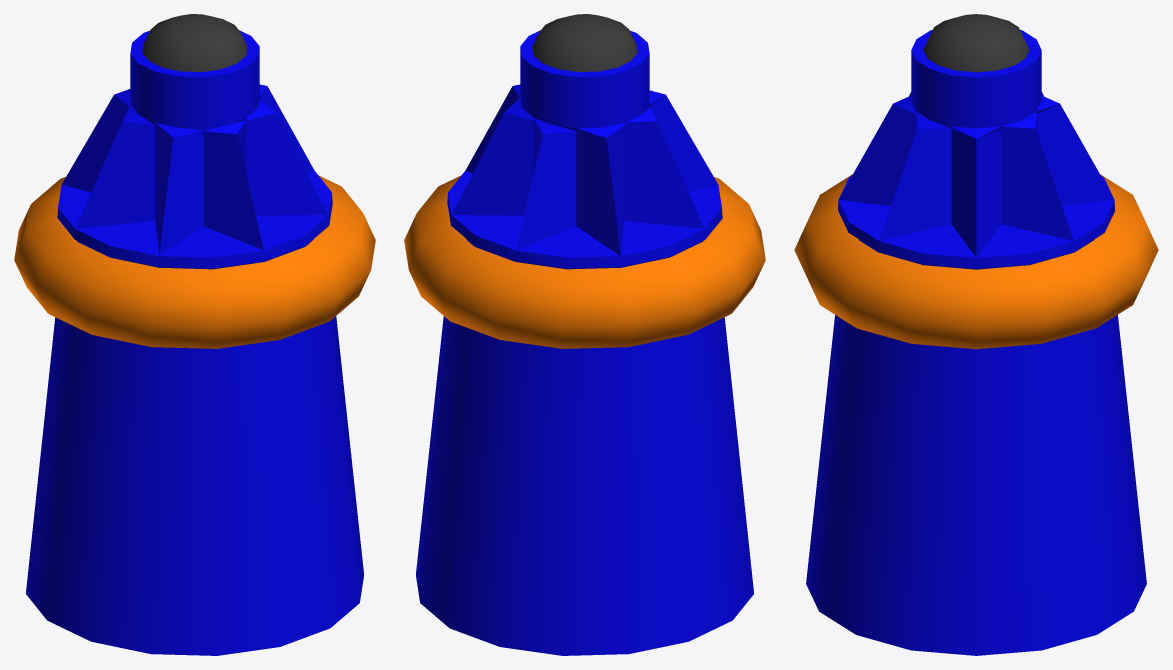
Rendered from SM_Post.FBX.
3 views of the same model, side by side, from view 1: azimuth 30°, elevation 25°; view 2: azimuth 150°, elevation 25°; view 3: azimuth 270°, elevation 25° (orthographic).
Parts seen in each view (by area): view 1: SM_Post; view 2: SM_Post; view 3: SM_Post.
Part boxes in pixels (x1=…): SM_Post: x1=14, y1=14, x2=375, y2=655; SM_Post: x1=404, y1=14, x2=765, y2=655; SM_Post: x1=794, y1=14, x2=1158, y2=655.
Bounding box in the file's own units: 61.69 × 61.69 × 105.
